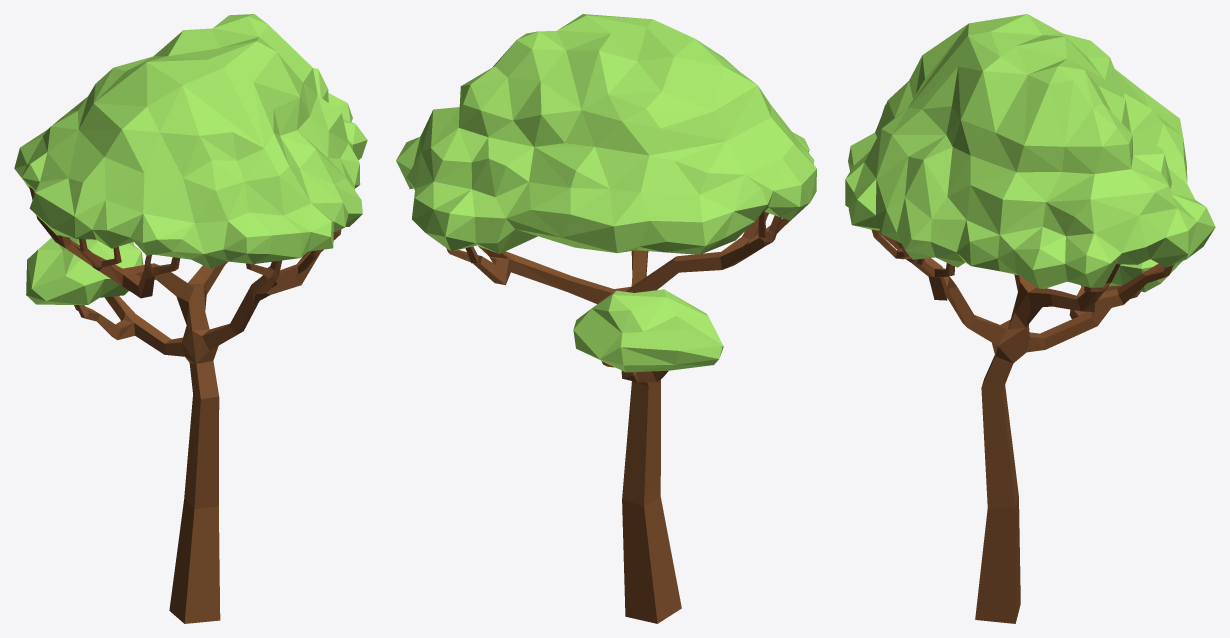
Rendered from tree3.fbx.
The picture shows the model from 3 angles, left to right: view 1: azimuth 30°, elevation 25°; view 2: azimuth 150°, elevation 25°; view 3: azimuth 270°, elevation 25°; orthographic projection. The views are drawn at different scales.
Parts seen in each view (by area): view 1: Tree_Oak_Tutorial; view 2: Tree_Oak_Tutorial; view 3: Tree_Oak_Tutorial.
Part boxes in pixels (box(x1,y1,x2,y2)): Tree_Oak_Tutorial: box(14, 14, 367, 623); Tree_Oak_Tutorial: box(396, 14, 816, 623); Tree_Oak_Tutorial: box(845, 14, 1215, 623).
Bounding box in the file's own units: 516 × 784 × 446.
